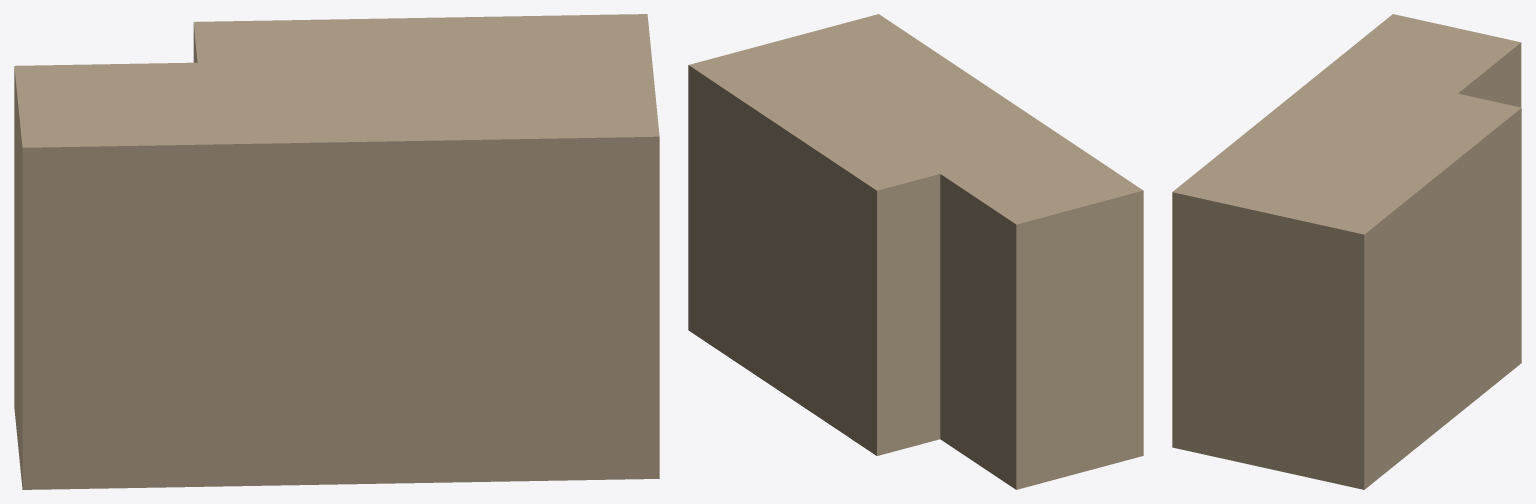
The model's file is bld_101374720.dae.
3 views of the same model, side by side, from view 1: azimuth 30°, elevation 25°; view 2: azimuth 150°, elevation 25°; view 3: azimuth 270°, elevation 25° (orthographic). The views are drawn at different scales.
Parts seen in each view (by area): view 1: bld_101374720; view 2: bld_101374720; view 3: bld_101374720.
Part boxes in pixels (x1,y1,x2,y2): bld_101374720: (14, 14, 659, 489); bld_101374720: (688, 14, 1143, 489); bld_101374720: (1172, 14, 1521, 489).
Bounding box in the file's own units: 14.83 × 9.93 × 8.
